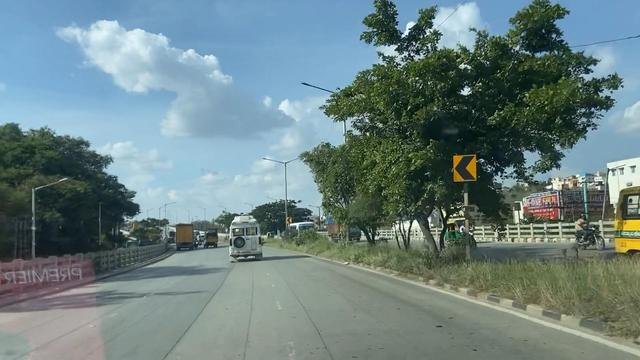HMV: (227, 217, 265, 258)
